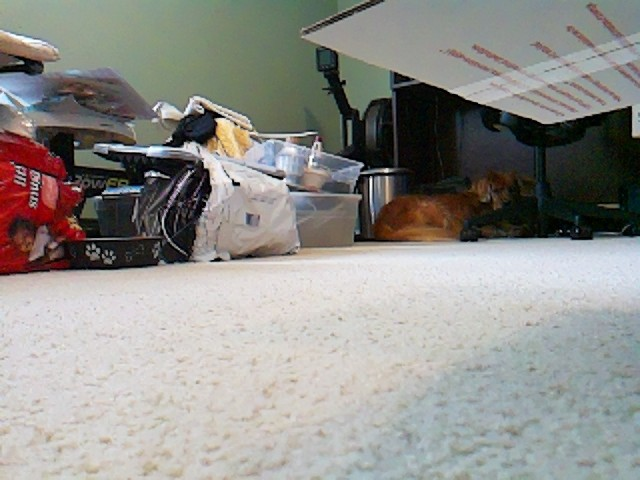Drivable Area: (2, 284, 640, 480), (202, 267, 639, 291), (362, 247, 640, 270)
Obstacle: (0, 0, 188, 278), (182, 90, 357, 261), (370, 164, 542, 243)
